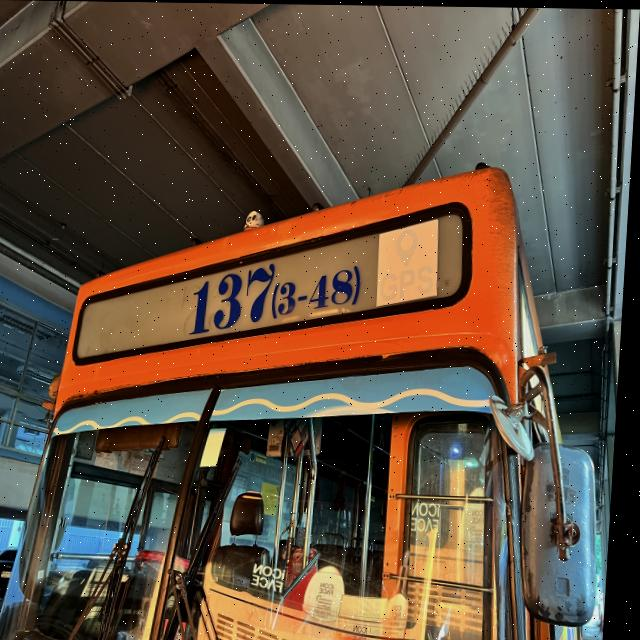BMTA-bus: (17, 159, 633, 640)
Bus-Line-Number: (186, 231, 376, 341)
